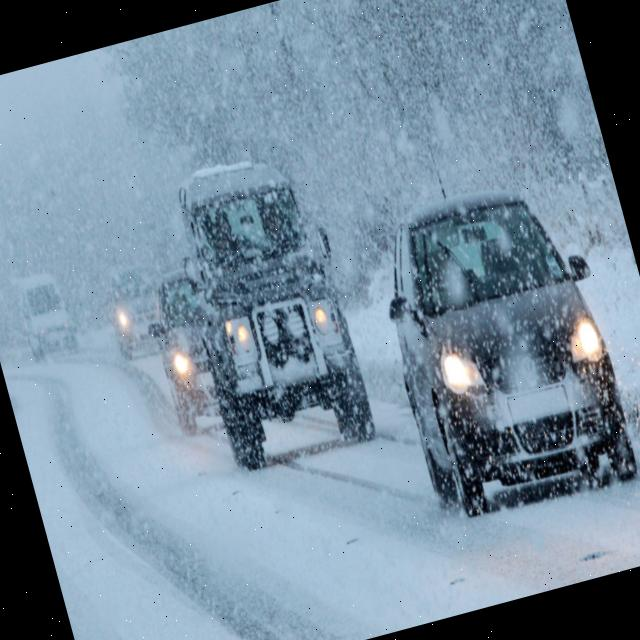car: (357, 171, 640, 529), (168, 158, 378, 474), (143, 268, 235, 443), (96, 252, 174, 362), (6, 264, 83, 368)
